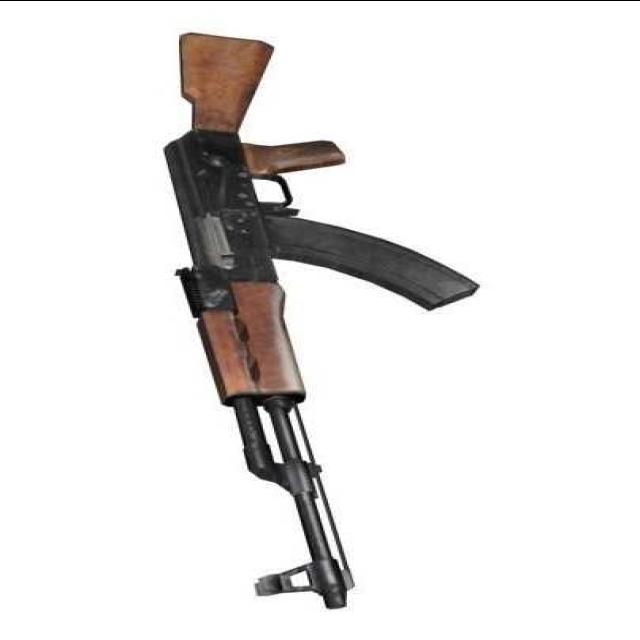heavyweapon: (114, 21, 524, 619)
